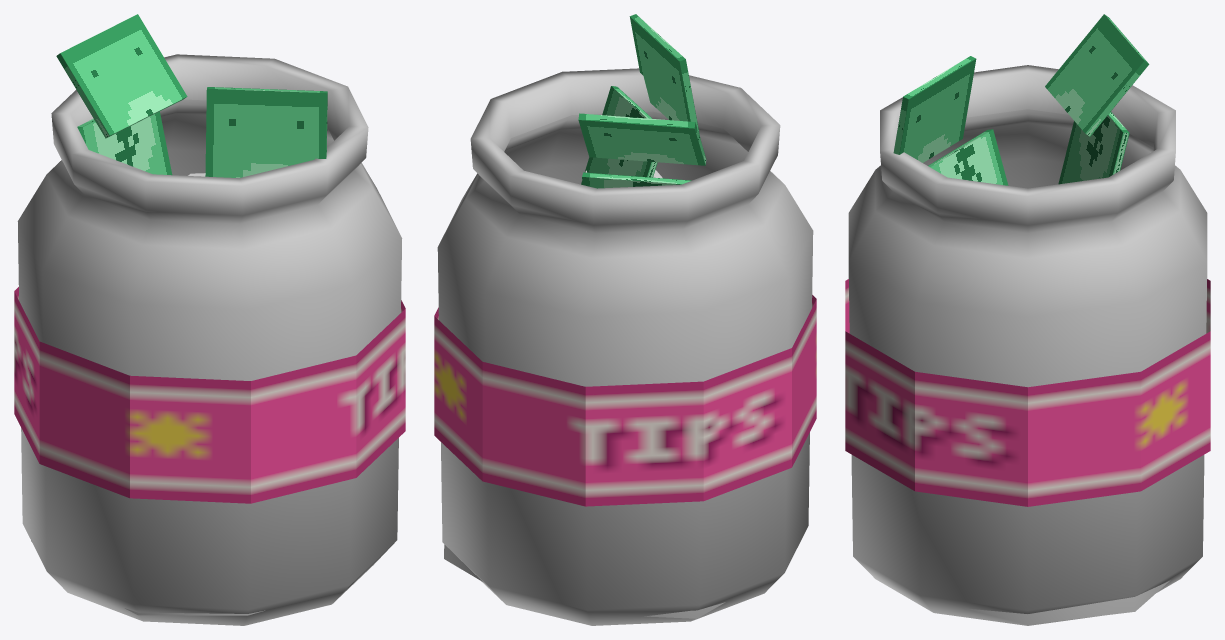
Rendered from Tip Jar.fbx.
3 renders of one model, left to right at view 1: azimuth 30°, elevation 25°; view 2: azimuth 150°, elevation 25°; view 3: azimuth 270°, elevation 25°, orthographic. The views are drawn at different scales.
Parts seen in each view (by area): view 1: Tip Jar jar, Tip Jar label, Tip Jar bill 1 fold, Tip Jar bill 0 fold, Tip Jar bill 0 low; view 2: Tip Jar jar, Tip Jar label, Tip Jar bill 0 fold, Tip Jar bill 1 fold, Tip Jar bill 1 low, Tip Jar bill 0 low, Tip Jar coin pile; view 3: Tip Jar jar, Tip Jar label, Tip Jar bill 0 fold, Tip Jar bill 1 fold, Tip Jar bill 0 low, Tip Jar bill 1 low, Tip Jar coin pile.
Boxes of the visible parts, <box> form: Tip Jar jar: <box>17,54,402,625</box>; Tip Jar label: <box>14,287,405,503</box>; Tip Jar bill 1 fold: <box>205,87,327,177</box>; Tip Jar bill 0 fold: <box>56,14,187,138</box>; Tip Jar bill 0 low: <box>77,111,172,175</box>; Tip Jar jar: <box>437,68,813,625</box>; Tip Jar label: <box>434,295,816,506</box>; Tip Jar bill 0 fold: <box>578,113,706,165</box>; Tip Jar bill 1 fold: <box>629,14,700,137</box>; Tip Jar bill 1 low: <box>581,86,657,184</box>; Tip Jar bill 0 low: <box>582,172,691,188</box>; Tip Jar coin pile: <box>444,544,725,618</box>; Tip Jar jar: <box>848,65,1207,625</box>; Tip Jar label: <box>845,279,1210,506</box>; Tip Jar bill 0 fold: <box>1045,14,1149,136</box>; Tip Jar bill 1 fold: <box>893,56,976,162</box>; Tip Jar bill 0 low: <box>1058,112,1129,184</box>; Tip Jar bill 1 low: <box>928,129,1008,185</box>; Tip Jar coin pile: <box>964,580,1170,624</box>.
Size of the model in its own units: 0.163 by 0.23 by 0.155.
